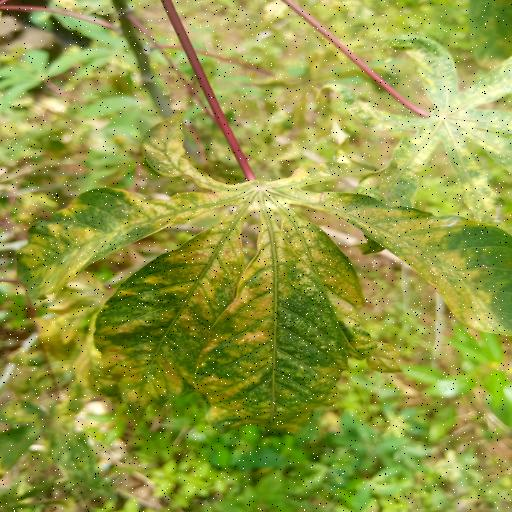Cassava_Mosaic: (15, 114, 512, 440), (319, 33, 512, 223)
